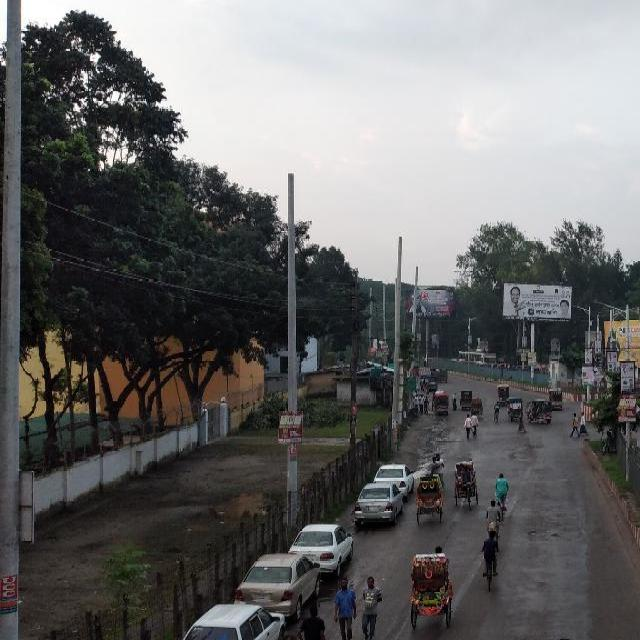auto rickshaw: (525, 398, 551, 421), (508, 395, 522, 419), (435, 392, 449, 412), (549, 388, 563, 408), (497, 384, 511, 404), (460, 388, 472, 408), (438, 368, 448, 381), (428, 375, 437, 389), (419, 373, 428, 387)
bicycle: (481, 543, 497, 588), (496, 492, 506, 518), (492, 408, 500, 420)
bus: (457, 348, 495, 365)
car: (237, 548, 323, 608), (184, 598, 286, 638), (296, 523, 354, 569), (357, 484, 403, 524), (375, 461, 413, 491)
rickshaw: (410, 552, 452, 626), (416, 473, 442, 521), (454, 461, 478, 509), (471, 398, 483, 414), (431, 388, 437, 408)
